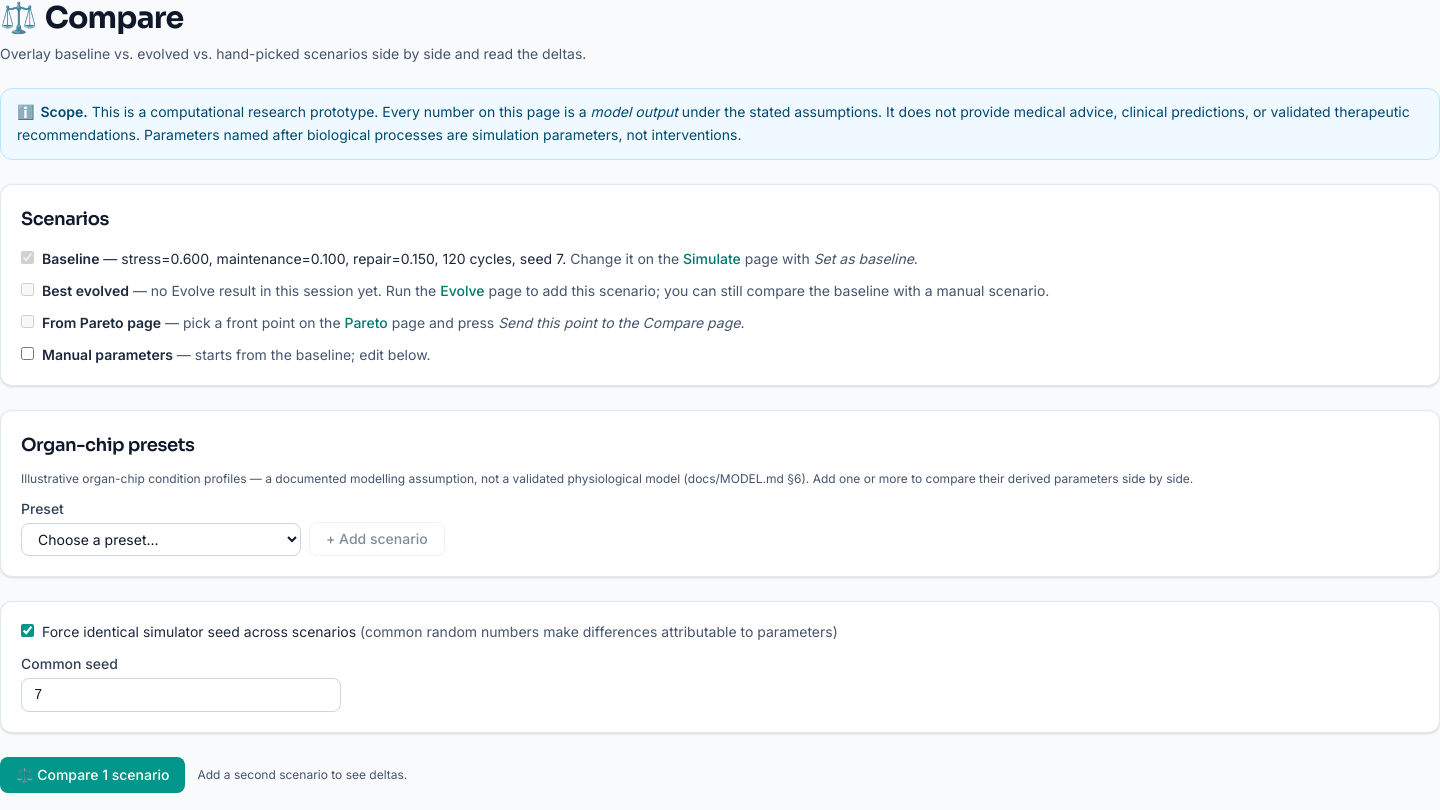
Test: Compare page › shows the synthetic age index per scenario with its disclaimer (ROADMAP.md #5)
The image size is (1440, 810).
Expected: the text "no Evolve result in this session yet" is shown, 133,282 -> 436,298
What coordinates should you click on to do the following:
click the checkbox labelled "Manual parameters — starts from the baseline; edit below."
I would click on:
 (28, 353)
Its box is 21,346 -> 34,360.
(page scrolled)
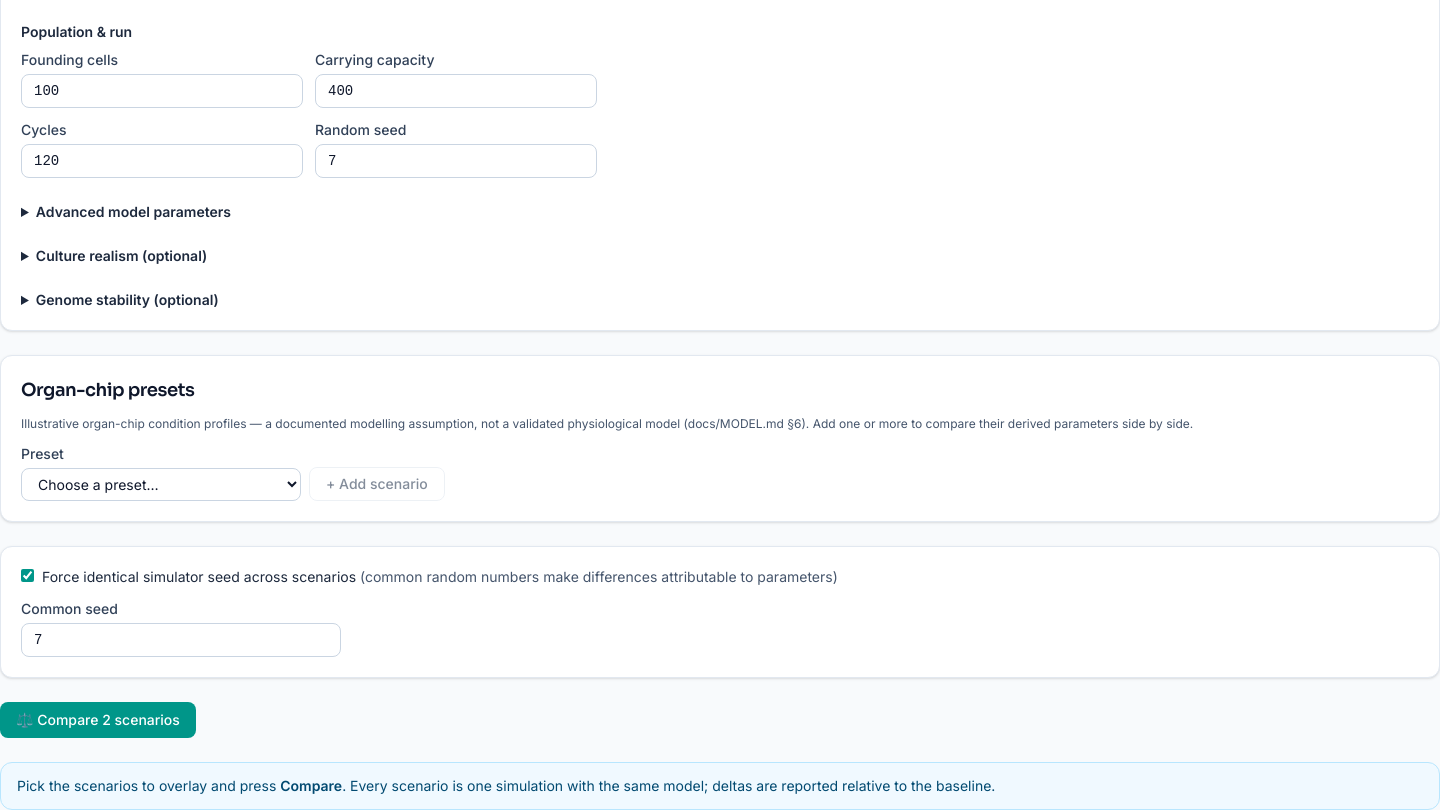
What coordinates should you click on to do the following:
click the button "⚖️ Compare 2 scenarios"
I would click on:
 (98, 720)
Its box is 0,702 -> 196,738.
(page scrolled)
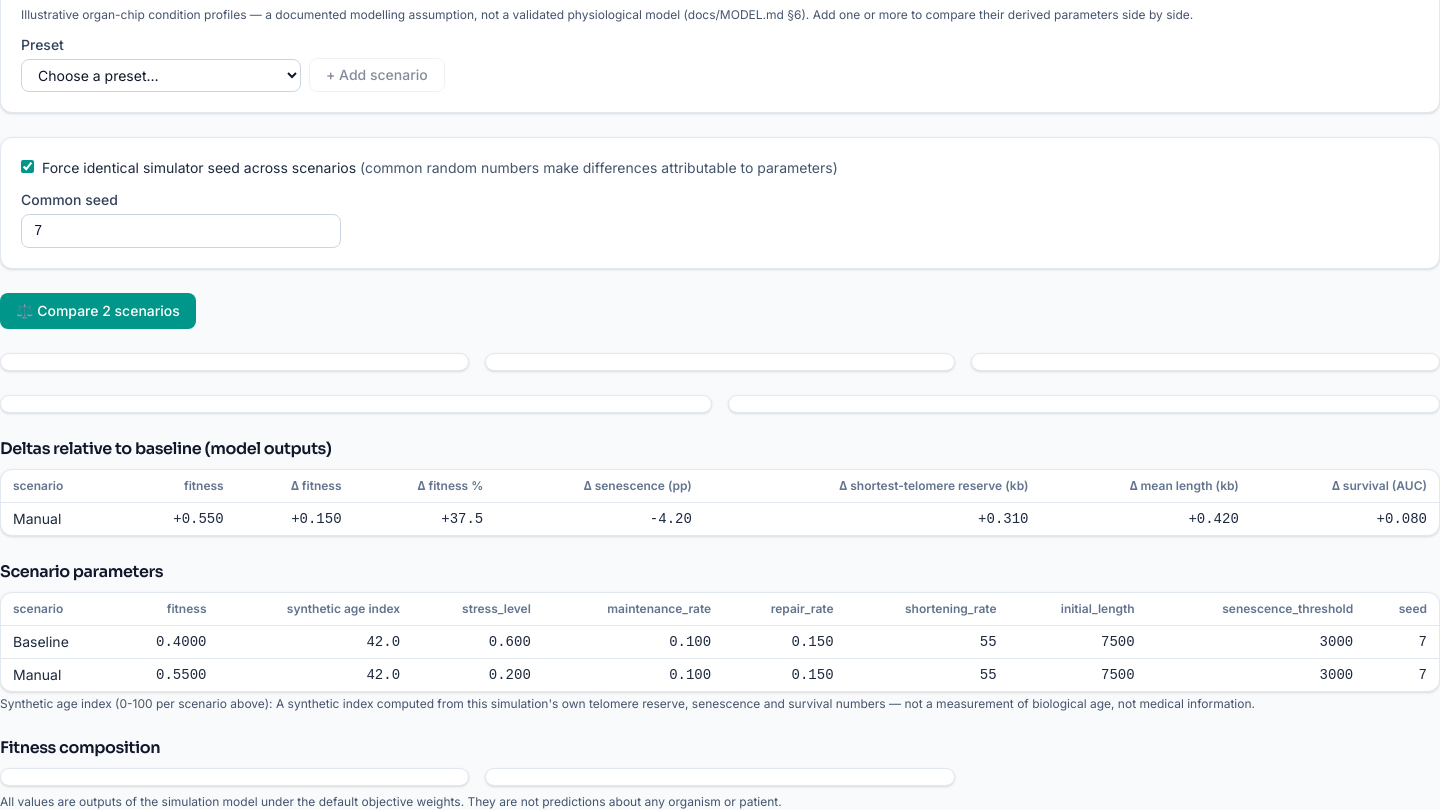
Expected: the table with test id "params-table" shows "synthetic age index", 287,600 -> 400,616
Expected: the cell with test id "age-Baseline" reads "42.0", 366,634 -> 400,650
Expected: the cell with test id "age-Manual" reads "42.0", 366,666 -> 400,682
